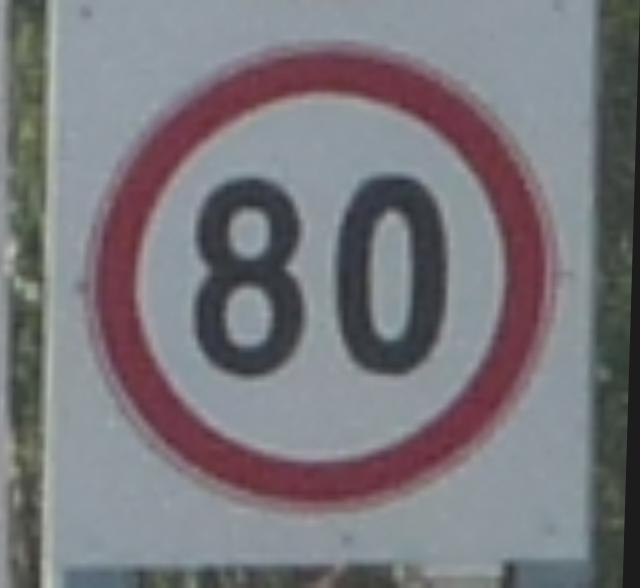limit80: (65, 33, 576, 526)
